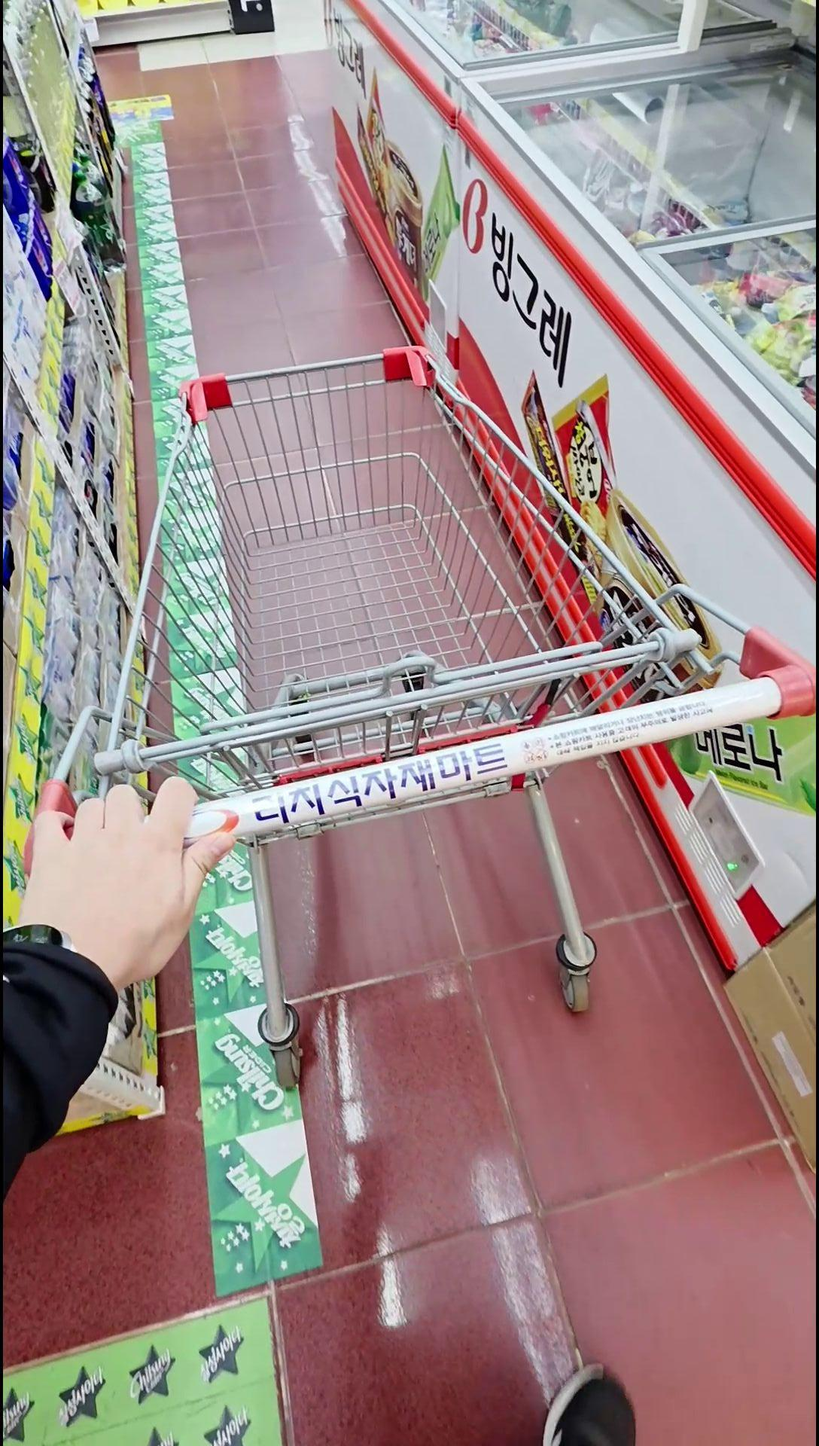empty_cart: (34, 343, 810, 1074)
